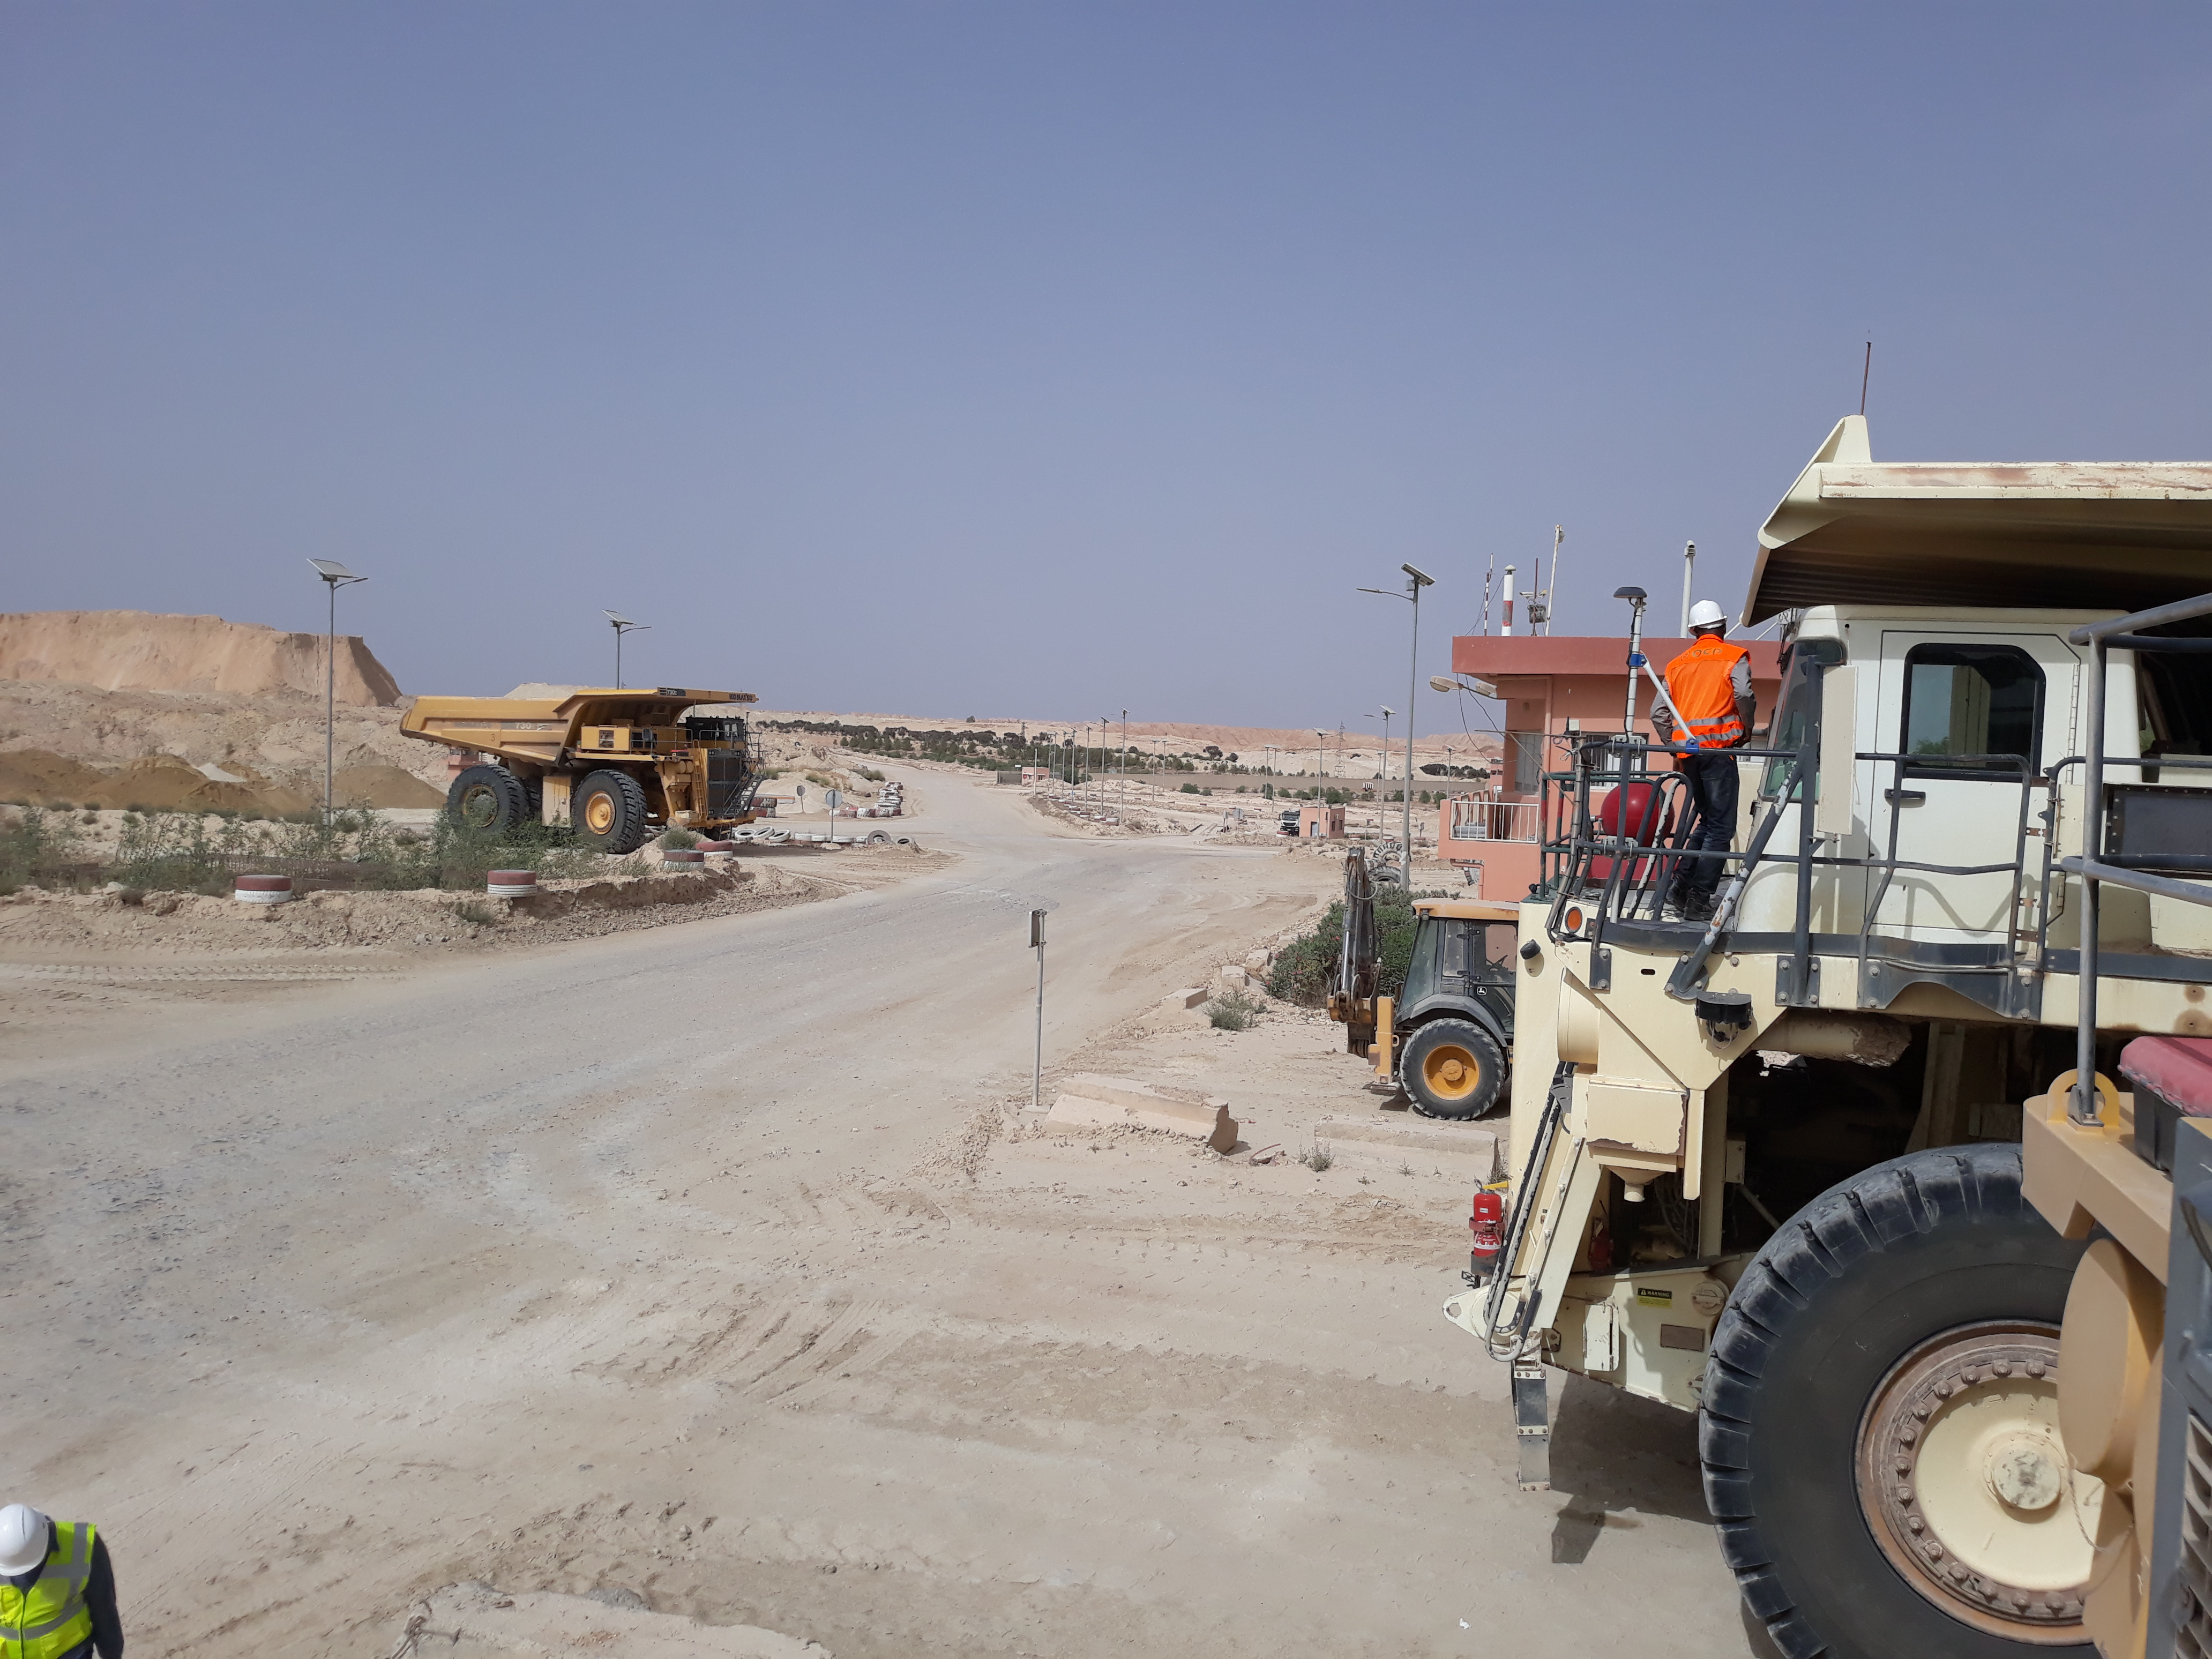camion: (404, 662, 796, 868)
person: (1647, 589, 1759, 960), (1, 1483, 129, 1657)
